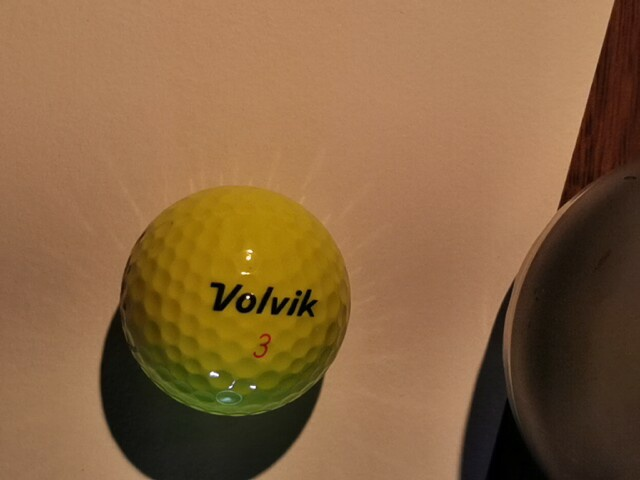Ball: (119, 185, 351, 418)
Volvik: (210, 282, 318, 317)
